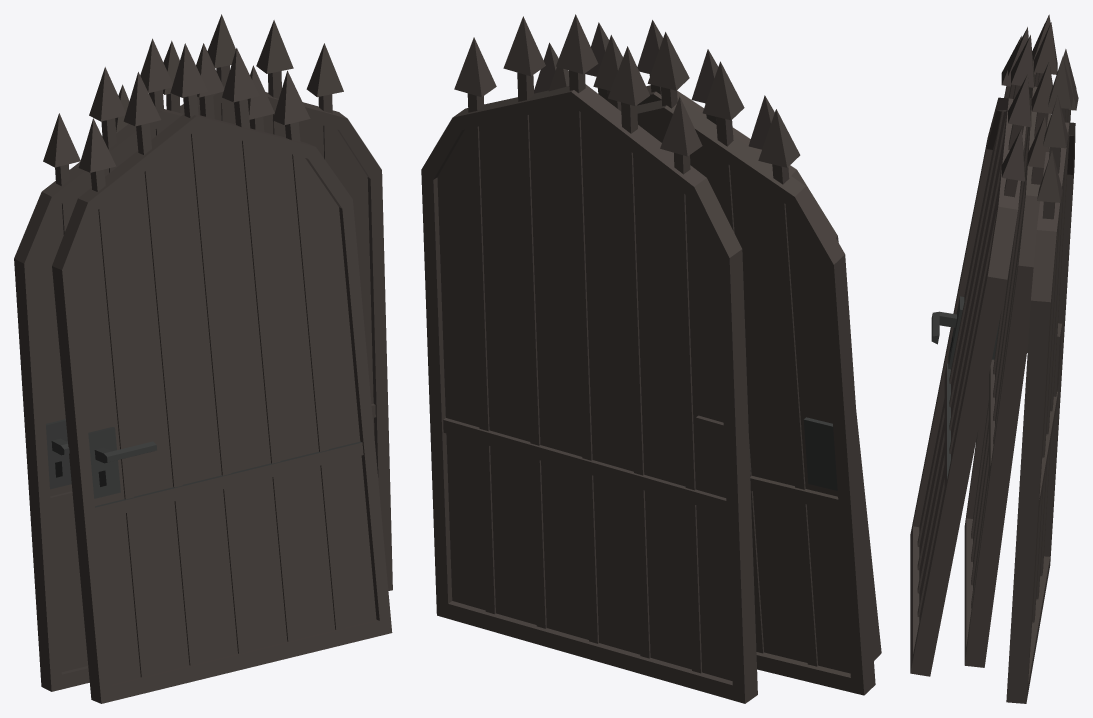
File: GatePile.glb
3 views of the same model, side by side, from view 1: azimuth 30°, elevation 25°; view 2: azimuth 150°, elevation 25°; view 3: azimuth 270°, elevation 25° (orthographic). The views are drawn at different scales.
Parts seen in each view (by area): view 1: gatePile; view 2: gatePile; view 3: gatePile.
Part boxes in pixels (x1,y1,x2,y2): gatePile: [14, 14, 392, 703]; gatePile: [421, 14, 881, 703]; gatePile: [910, 14, 1078, 703].
Size of the model in its own units: 1.67 by 2.58 by 0.6794.
1 material, 1 textured.
